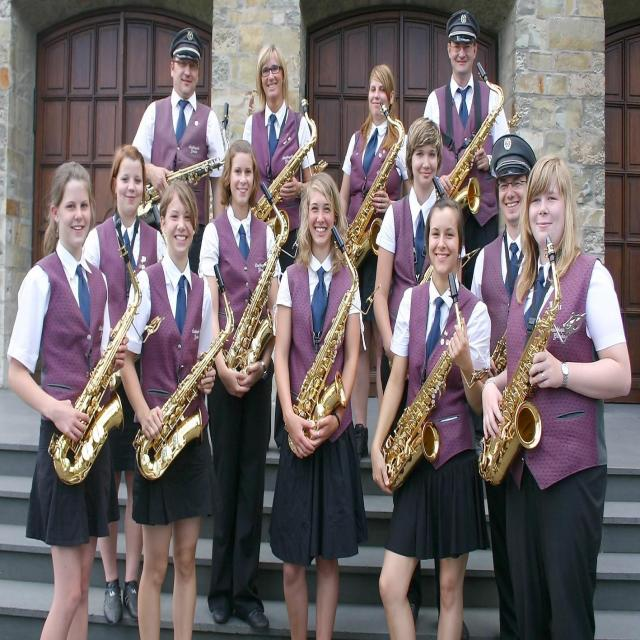saxophone: (49, 216, 141, 489), (130, 264, 235, 487), (476, 235, 563, 486), (375, 267, 466, 491), (288, 226, 361, 461), (226, 177, 289, 383), (436, 59, 507, 225), (343, 94, 408, 267), (138, 101, 233, 203), (247, 96, 320, 225)
